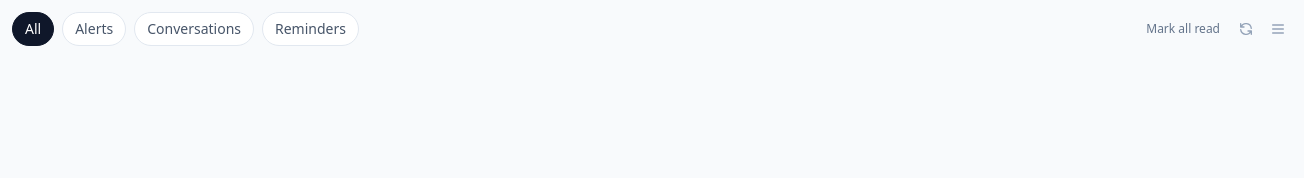
Test: DashboardFeed › the "Reminders" chip filters out alerts and conversations
Click the button "Reminders" at point(310, 29), box [262,12,359,46]
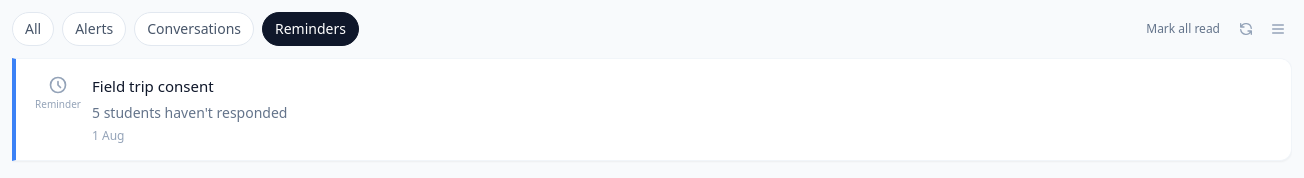
Now the text "Field trip consent" is shown, box [92,75,214,98]
